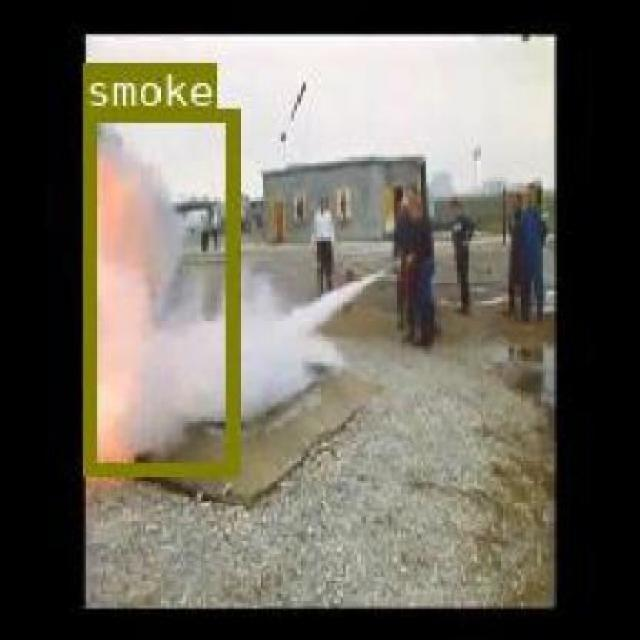smoke: (81, 107, 237, 475)
